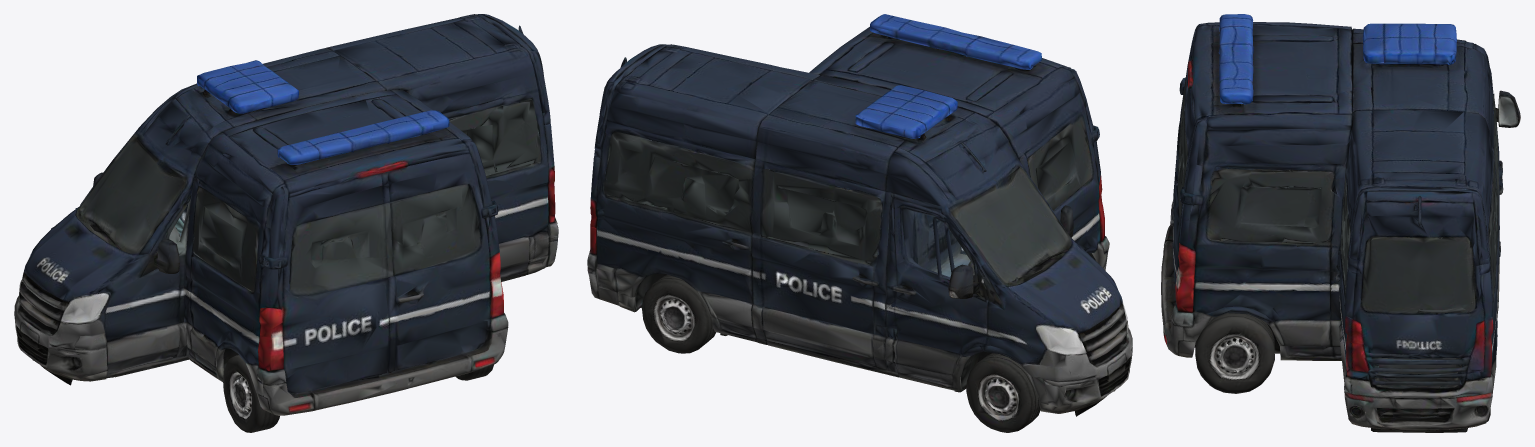
File: prop.police_van.paris.glb
3 views of the same model, side by side, from view 1: azimuth 30°, elevation 25°; view 2: azimuth 150°, elevation 25°; view 3: azimuth 270°, elevation 25° (orthographic). The views are drawn at different scales.
Parts seen in each view (by area): view 1: tripo_node_63963f96-78a3-42a4-be7e-fad28190c45b; view 2: tripo_node_63963f96-78a3-42a4-be7e-fad28190c45b; view 3: tripo_node_63963f96-78a3-42a4-be7e-fad28190c45b.
Part boxes in pixels (x1,y1,x2,y2): tripo_node_63963f96-78a3-42a4-be7e-fad28190c45b: (14, 14, 558, 432); tripo_node_63963f96-78a3-42a4-be7e-fad28190c45b: (587, 14, 1132, 432); tripo_node_63963f96-78a3-42a4-be7e-fad28190c45b: (1161, 14, 1520, 432).
Bounding box in the file's own units: 0.9779 × 0.4956 × 0.5703.
1 material, 1 textured.
